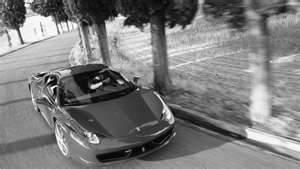car: (27, 64, 180, 169)
